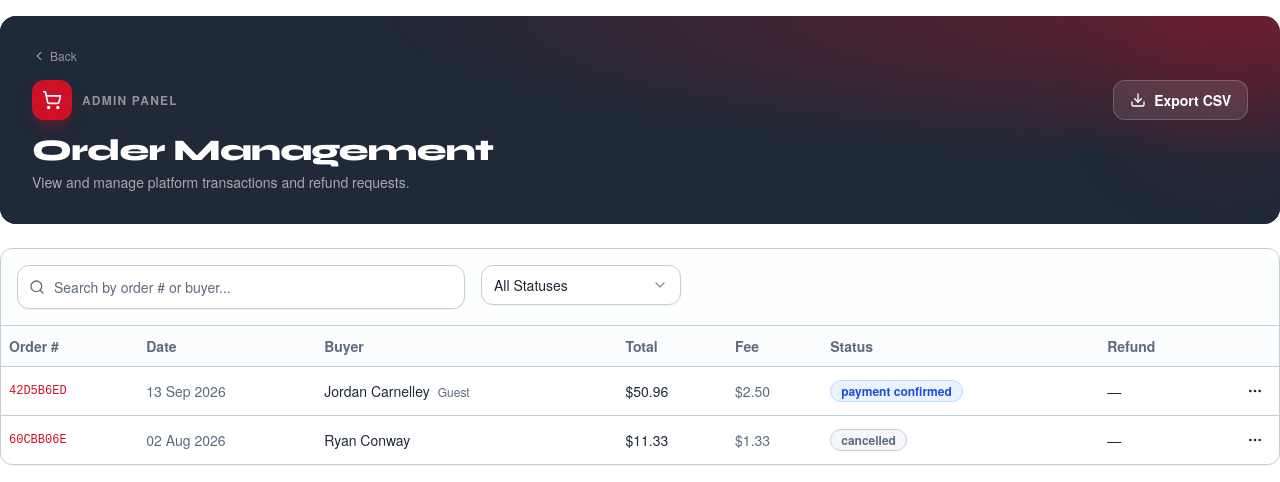
Scenario: OrderManagementPage › searches a guest order by shipping name
expect the text "Jordan Carnelley" is shown: met, box [324, 380, 430, 400]
Type "jordan" into the field with placeholder "Search by order # or buyer...".
click(241, 287); type("jordan")  # box [17, 265, 465, 309]
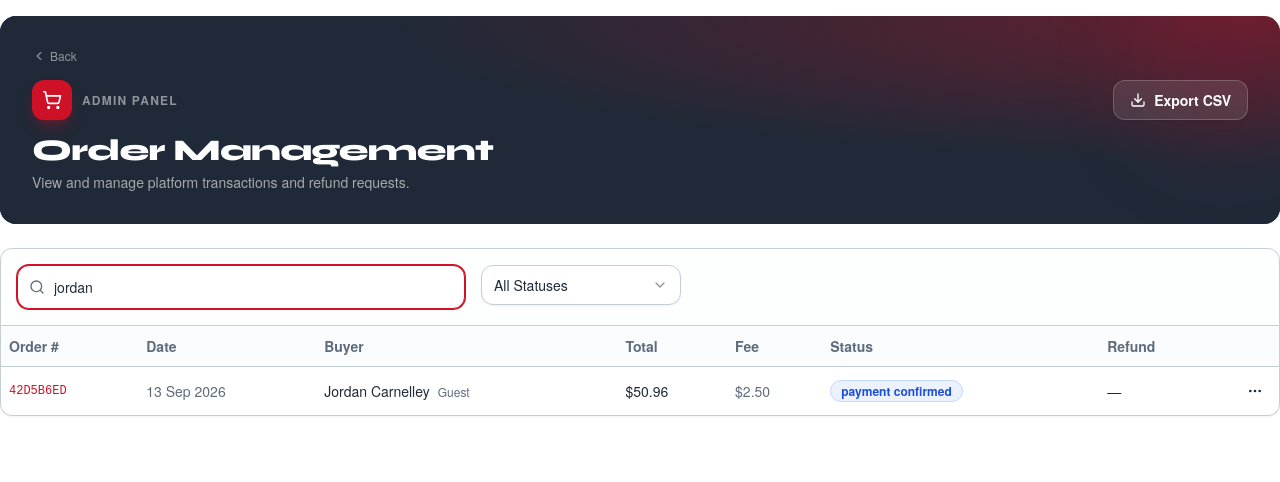
expect the text "Jordan Carnelley" is shown: met, box [324, 380, 430, 400]
expect the text "Ryan Conway" is gone: met
